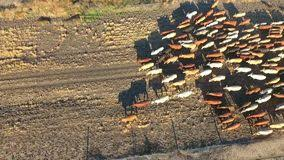sheep: (200, 97, 222, 107), (117, 114, 138, 124), (131, 99, 150, 110), (222, 83, 242, 93), (221, 122, 241, 132), (246, 72, 267, 81), (161, 73, 178, 84), (205, 89, 225, 98), (245, 111, 267, 119), (204, 50, 223, 59), (195, 69, 214, 78), (232, 63, 251, 72), (177, 89, 192, 100), (148, 46, 164, 56), (253, 95, 273, 103), (146, 67, 163, 76), (208, 75, 225, 84), (245, 58, 262, 66), (153, 96, 169, 104), (166, 42, 182, 50), (231, 11, 247, 19), (137, 56, 152, 63), (241, 27, 256, 33)
